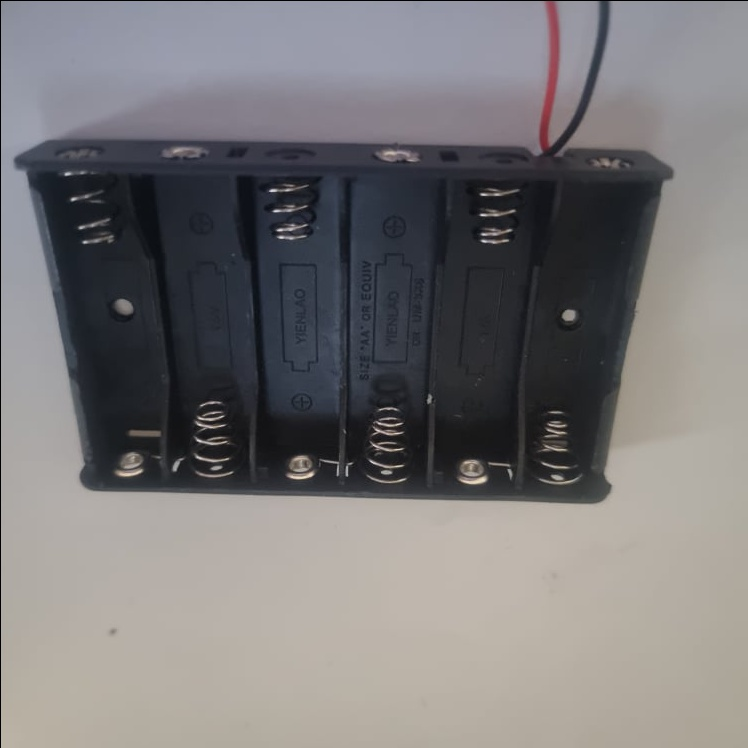BATTERY BOX: (14, 133, 677, 503)
